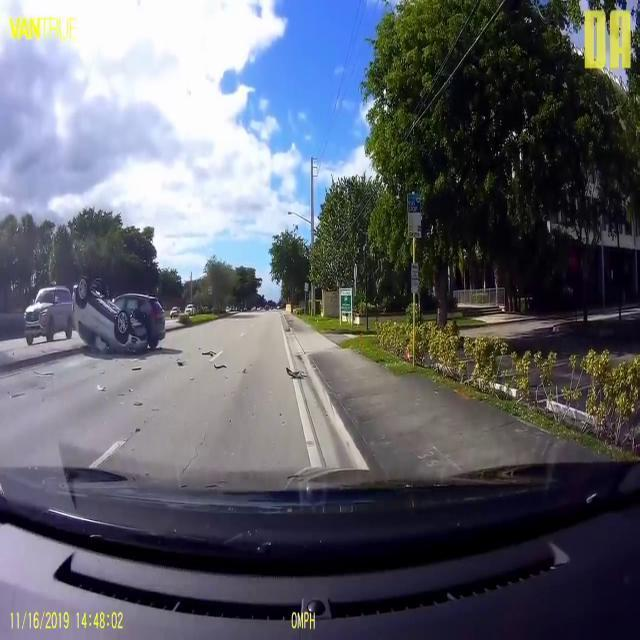accident: (68, 279, 172, 355)
